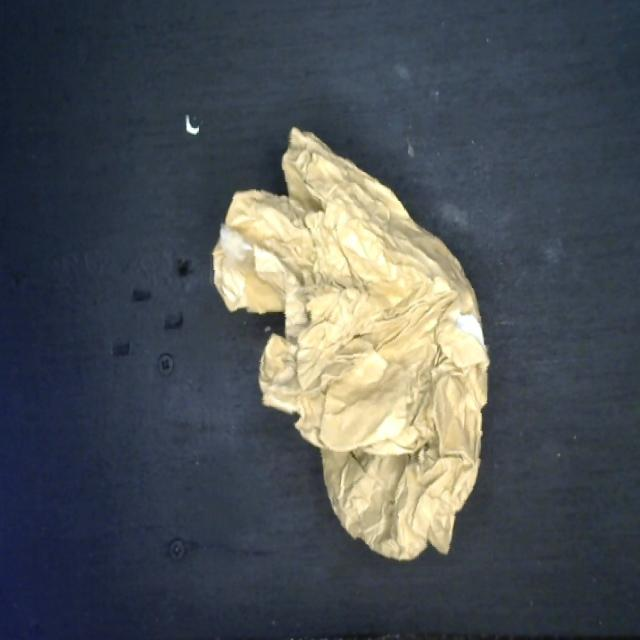biodegradable: (203, 112, 493, 566)
